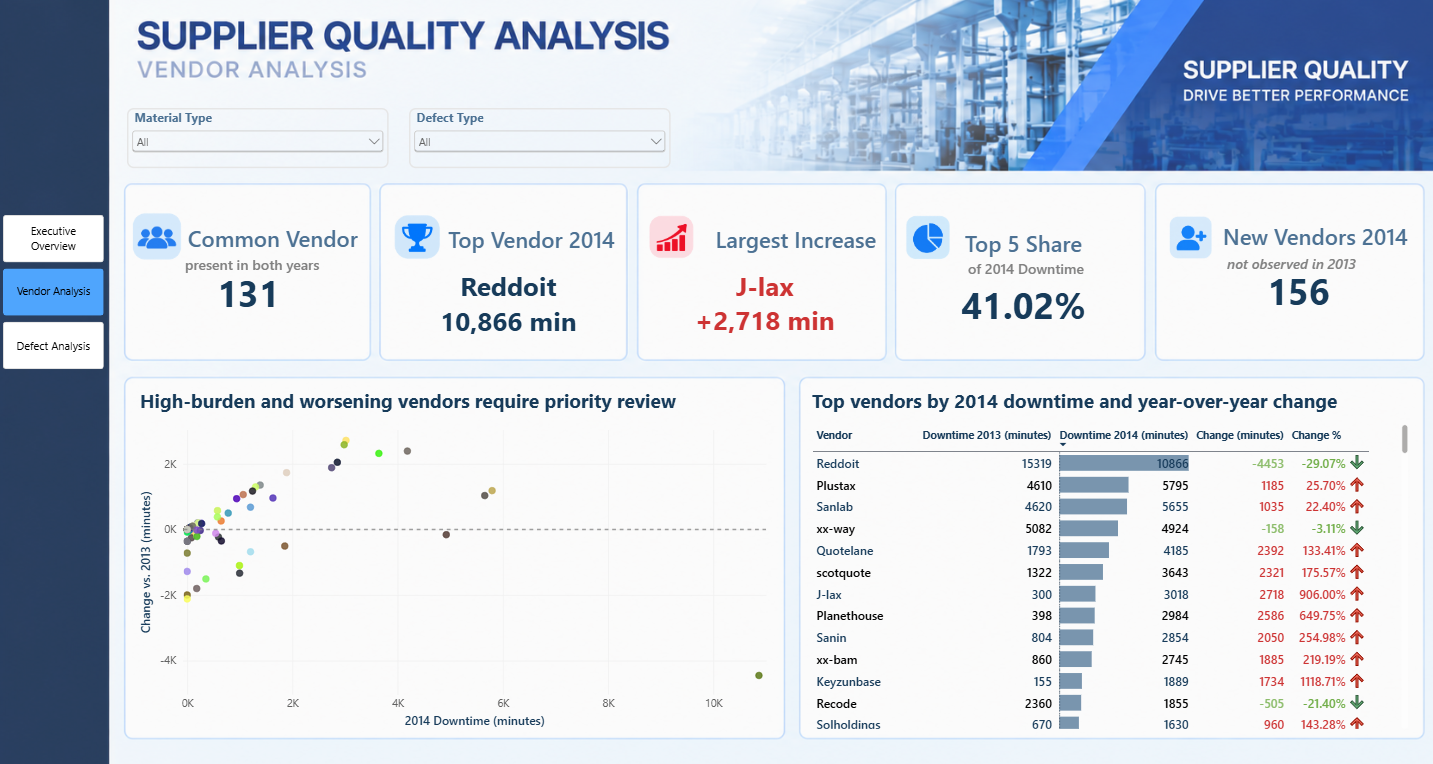

Layout of this report page (visuals, bound fields, positions):
{"tool":"powerbi","page":{"name":"Vendor Analysis","canvas":[1920,1080],"ordinal":1},"visuals":[{"type":"slicer","fields":{"Values":["MaterialTypeTable.Material Type"]},"box":[174.5,151.1,348.5,79.8],"z":0},{"type":"slicer","fields":{"Values":["DefectTypeTable.Defect Type"]},"box":[548.9,151.1,348.5,79.8],"z":1000},{"type":"cardVisual","title":"Total Downtime","fields":{"Data":["*Measure.Common Vendor Count"]},"box":[174.5,244.7,323.4,244.7],"z":2000},{"type":"image","box":[175,278.1,76.6,89.1],"z":3000},{"type":"cardVisual","title":"Total Downtime","fields":{"Data":["*Measure.Top Vendor 2014 ten"]},"box":[523.4,245.3,315.6,275],"z":4000},{"type":"cardVisual","title":"Total Downtime","fields":{"Data":["*Measure.Largest Increase Display"]},"box":[857.8,243.8,329.7,276.6],"z":5000},{"type":"cardVisual","title":"Top 5 Share","fields":{"Data":["*Measure.Top 5 Downtime Share 2014"]},"box":[1204.7,265.6,323.4,225],"z":6000},{"type":"cardVisual","title":"Total Downtime","fields":{"Data":["*Measure.New Vendors 2014"]},"box":[1570.3,242.2,323.4,244.7],"z":7000},{"type":"textbox","box":[251.6,346.9,285.9,53.1],"z":8000},{"type":"image","box":[498.4,289.1,123.4,68.8],"z":9000},{"type":"image","box":[857.8,289.1,81.2,68.8],"z":10000},{"type":"textbox","box":[1292.2,353.1,187.5,60.9],"z":10001},{"type":"image","box":[1196.9,289.1,84.4,68.8],"z":10002},{"type":"image","box":[1542.2,289.1,95.3,68.8],"z":10003},{"type":"textbox","box":[1637.5,345.3,195.3,43.8],"z":10004},{"type":"scatterChart","title":"High-burden and worsening vendors require priority review","fields":{"Series":["VendorTable.Vendor"],"X":["*Measure.Downtime 2014"],"Y":["*Measure.Vendor Change"]},"box":[175,509.4,876.6,482.8],"z":10005},{"type":"tableEx","title":"Top vendors by 2014 downtime and year-over-year change","fields":{"Values":["VendorTable.Vendor","*Measure.Downtime 2013","*Measure.Downtime 2014","*Measure.Vendor Change","*Measure.Vendor Change %"]},"box":[1068.9,509.8,824.6,483.6],"z":10007},{"type":"pageNavigator","box":[9.3,293.9,134.3,207.5],"z":10008}]}

Visuals, with their boxes on the page's 1920x1080 design canvas (x1, y1, x2, y2). These are canvas units, not pixel positions in the 1433x764 screenshot, which may show the page scaled, cropped or inside an application window:
slicer - MaterialTypeTable.Material Type: select_region(174, 151, 523, 231)
slicer - DefectTypeTable.Defect Type: select_region(549, 151, 897, 231)
"Total Downtime" cardVisual: select_region(174, 245, 498, 489)
image: select_region(175, 278, 252, 367)
"Total Downtime" cardVisual: select_region(523, 245, 839, 520)
"Total Downtime" cardVisual: select_region(858, 244, 1188, 520)
"Top 5 Share" cardVisual: select_region(1205, 266, 1528, 491)
"Total Downtime" cardVisual: select_region(1570, 242, 1894, 487)
textbox: select_region(252, 347, 538, 400)
image: select_region(498, 289, 622, 358)
image: select_region(858, 289, 939, 358)
textbox: select_region(1292, 353, 1480, 414)
image: select_region(1197, 289, 1281, 358)
image: select_region(1542, 289, 1638, 358)
textbox: select_region(1638, 345, 1833, 389)
"High-burden and worsening vendors require priority review" scatterChart: select_region(175, 509, 1052, 992)
"Top vendors by 2014 downtime and year-over-year change" tableEx: select_region(1069, 510, 1894, 993)
pageNavigator: select_region(9, 294, 144, 501)
